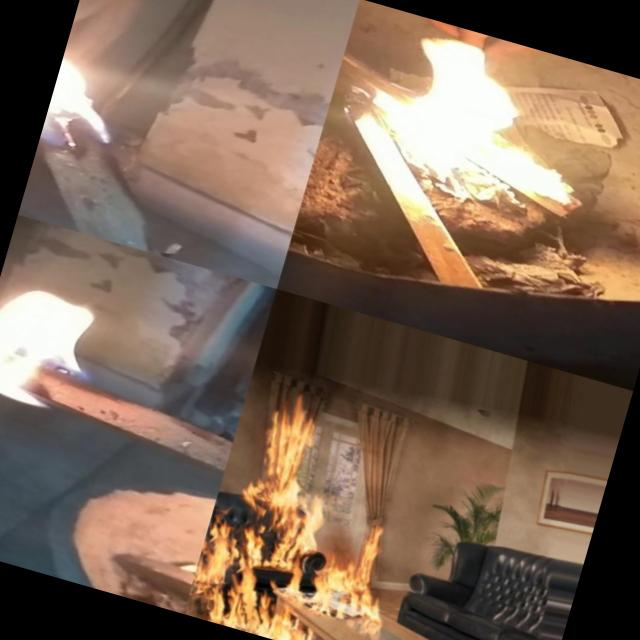fire: (312, 4, 607, 246), (183, 370, 428, 640), (0, 272, 133, 436), (39, 35, 145, 162)
